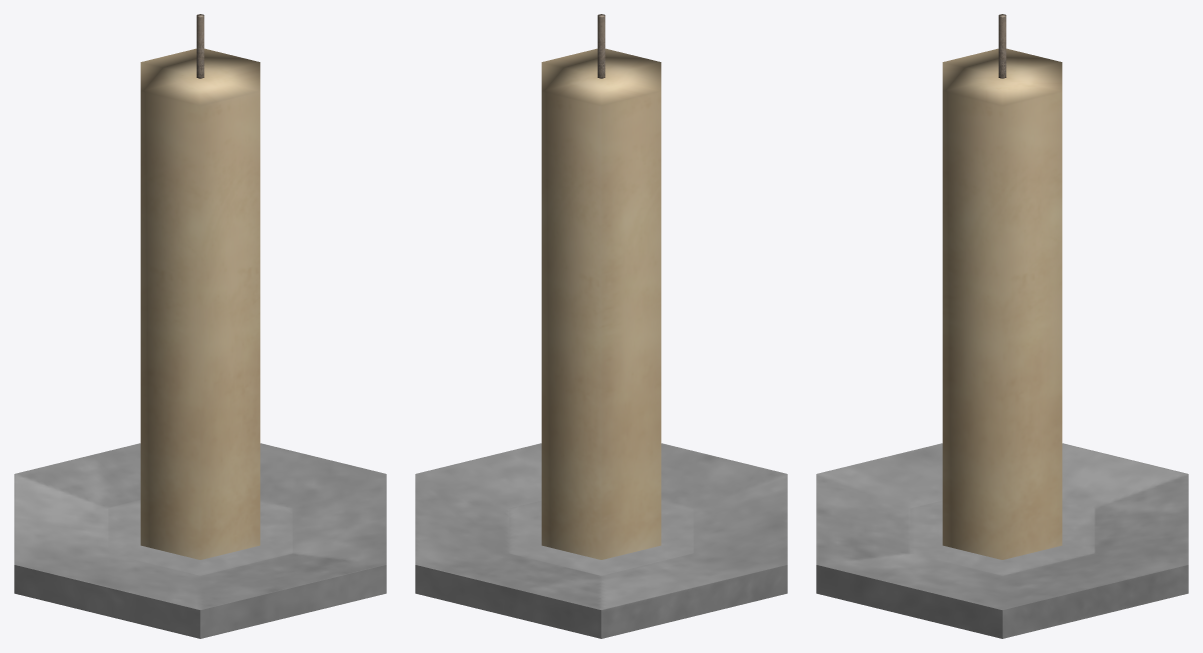
File: Candle.fbx
3 renders of one model, left to right at view 1: azimuth 30°, elevation 25°; view 2: azimuth 150°, elevation 25°; view 3: azimuth 270°, elevation 25°, orthographic.
Parts seen in each view (by area): view 1: pCylinder5, pCylinder6, pCylinder7; view 2: pCylinder5, pCylinder6, pCylinder7; view 3: pCylinder5, pCylinder6, pCylinder7.
Part boxes in pixels (<box>): pCylinder5: <box>140,48,260,559</box>; pCylinder6: <box>14,443,386,638</box>; pCylinder7: <box>196,14,204,78</box>; pCylinder5: <box>541,48,661,559</box>; pCylinder6: <box>415,443,787,638</box>; pCylinder7: <box>597,14,605,78</box>; pCylinder5: <box>942,48,1062,559</box>; pCylinder6: <box>816,443,1188,638</box>; pCylinder7: <box>998,14,1006,78</box>.
Bounding box in the file's own units: 22.94 × 31.32 × 19.86.
1 material, 1 textured.
